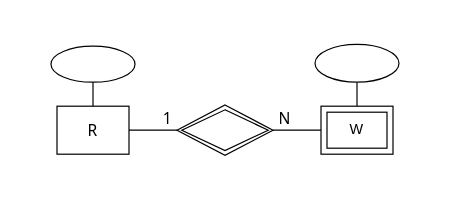
Some shapes in this 449 by 198 pixel diagram are drawn without their labels. The shapes that lost their labels are listed below. From the top down, each one's box as (x1, y1, x2, y2) in pixels, then its label:
(50, 45, 135, 82): ID
(314, 43, 399, 82): partial
